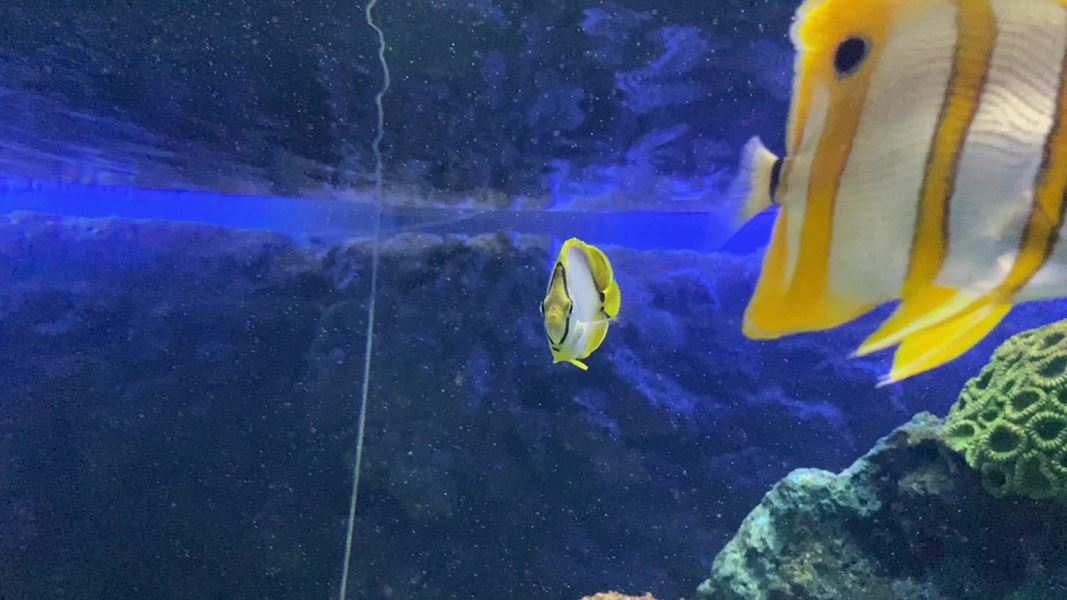Black-backed butterflyfish: (532, 229, 651, 382)
